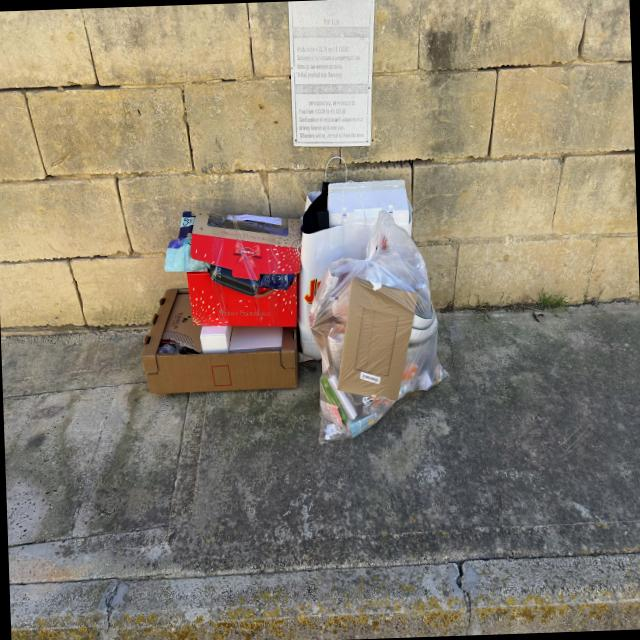grey_bag: (304, 208, 456, 447)
other_waste: (134, 195, 312, 399)
